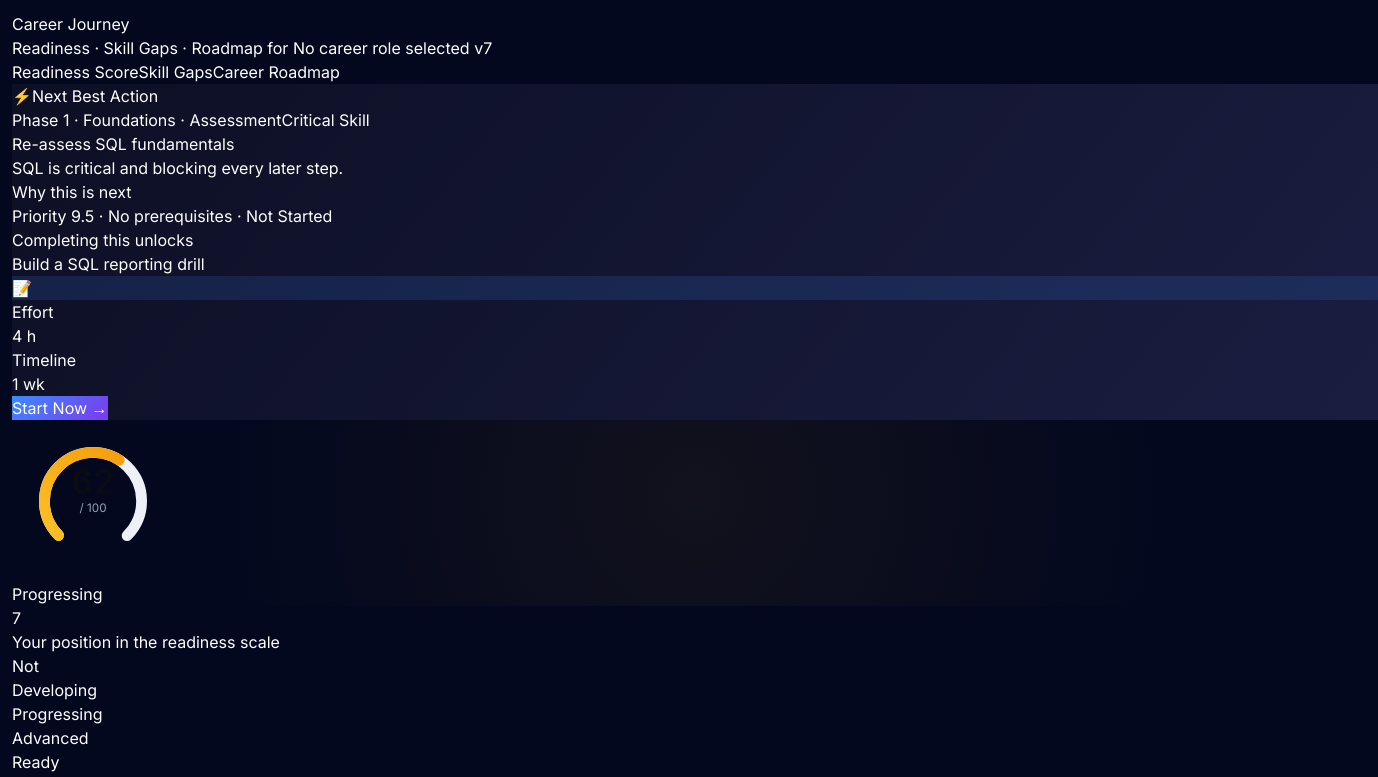
Test: CareerJourneyView with a real backend payload › renders skill gaps without NaN and buckets them from the API status
The width and height of the screenshot is (1378, 777).
What coordinates should you click on to do the following:
click the button "Skill Gaps"
I would click on:
 (176, 72)
Its box is [138,60,213,84].
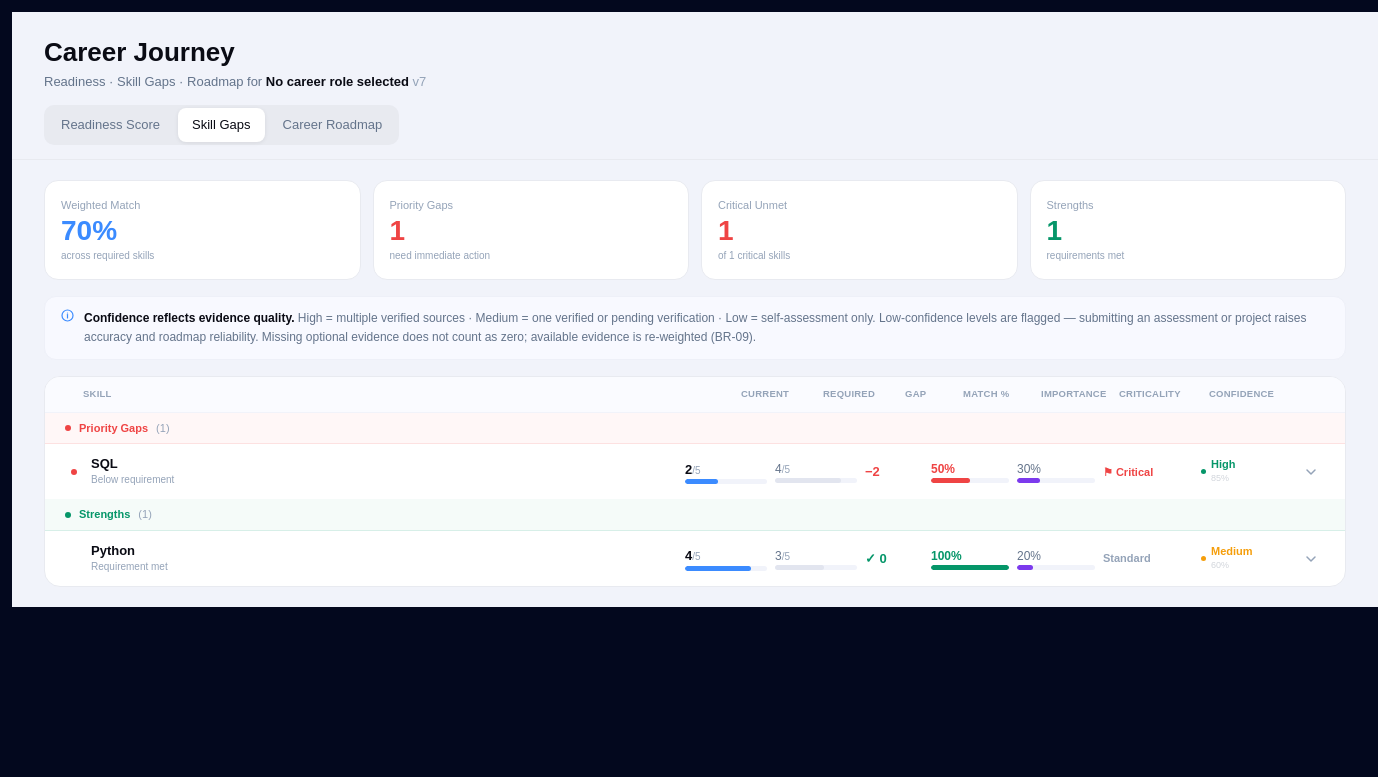
Check: the text "Python" is shown, box [91,543,135,558]
Check: the text "Priority Gaps" next to "Critical Unmet" is shown, box [390,198,453,210]
Check: the text "Strengths" in the row of "Critical Unmet" is shown, box [1046,198,1094,210]
